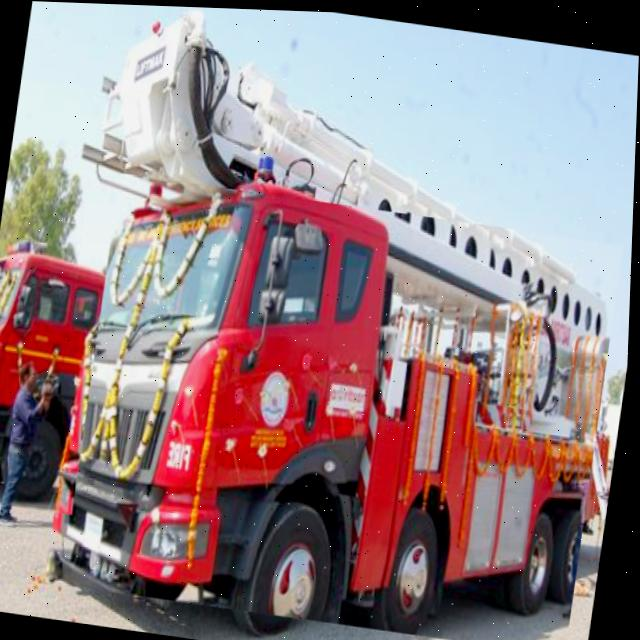Fire Truck: (46, 170, 626, 640), (0, 213, 113, 514)
